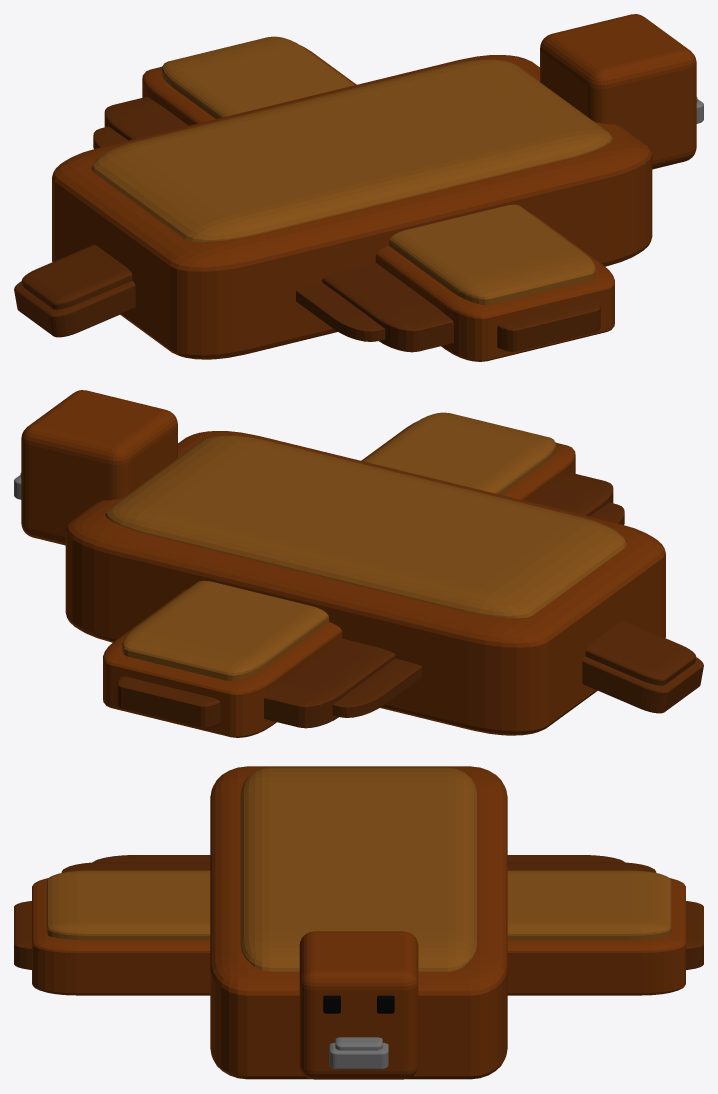
File: Dartle.glb
3 renders of one model, top to bottom at view 1: azimuth 30°, elevation 25°; view 2: azimuth 150°, elevation 25°; view 3: azimuth 270°, elevation 25°, orthographic. The views are drawn at different scales.
Visible parts, largest first — view 1: Cube.021, Cube, Cube.012, Cube.023, Cube.022, Cube.018, Cube.028, Cube.020, Cube.025, Cube.019, Cube.026, Cube.017 (+1 smaller); view 2: Cube.021, Cube, Cube.012, Cube.022, Cube.023, Cube.016, Cube.017, Cube.020, Cube.025, Cube.029, Cube.027, Cube.028 (+1 smaller); view 3: Cube.021, Cube, Cube.012, Cube.022, Cube.023, Cube.016, Cube.018, Cube.024, Cube.017, Cube.028, Cube.019, Cube.029 (+3 smaller).
Part boxes in pixels (bbox=[...]): Cube.021: bbox=[91, 59, 612, 242]; Cube: bbox=[52, 55, 652, 359]; Cube.012: bbox=[540, 14, 696, 169]; Cube.023: bbox=[389, 204, 595, 305]; Cube.022: bbox=[162, 36, 354, 118]; Cube.018: bbox=[375, 213, 614, 361]; Cube.028: bbox=[322, 262, 453, 352]; Cube.020: bbox=[21, 244, 132, 309]; Cube.025: bbox=[14, 280, 135, 337]; Cube.019: bbox=[497, 300, 600, 351]; Cube.026: bbox=[296, 282, 385, 341]; Cube.017: bbox=[104, 96, 188, 140]; Cube.021: bbox=[105, 435, 626, 618]; Cube: bbox=[65, 431, 665, 735]; Cube.012: bbox=[21, 390, 177, 545]; Cube.022: bbox=[122, 580, 328, 681]; Cube.023: bbox=[363, 412, 555, 494]; Cube.016: bbox=[103, 589, 342, 737]; Cube.017: bbox=[264, 638, 395, 728]; Cube.020: bbox=[585, 620, 696, 685]; Cube.025: bbox=[582, 656, 703, 713]; Cube.029: bbox=[117, 676, 220, 727]; Cube.027: bbox=[332, 658, 421, 717]; Cube.028: bbox=[529, 472, 613, 516]; Cube.021: bbox=[240, 767, 477, 971]; Cube: bbox=[210, 766, 507, 1079]; Cube.012: bbox=[299, 931, 418, 1079]; Cube.022: bbox=[507, 870, 671, 940]; Cube.023: bbox=[46, 870, 210, 940]; Cube.016: bbox=[507, 878, 685, 995]; Cube.018: bbox=[32, 878, 210, 995]; Cube.024: bbox=[329, 1043, 388, 1069]; Cube.017: bbox=[507, 862, 656, 872]; Cube.028: bbox=[61, 862, 210, 872]; Cube.019: bbox=[14, 901, 31, 969]; Cube.029: bbox=[686, 901, 703, 969].
Size of the model in its own units: 1.24 by 0.28 by 1.16.
